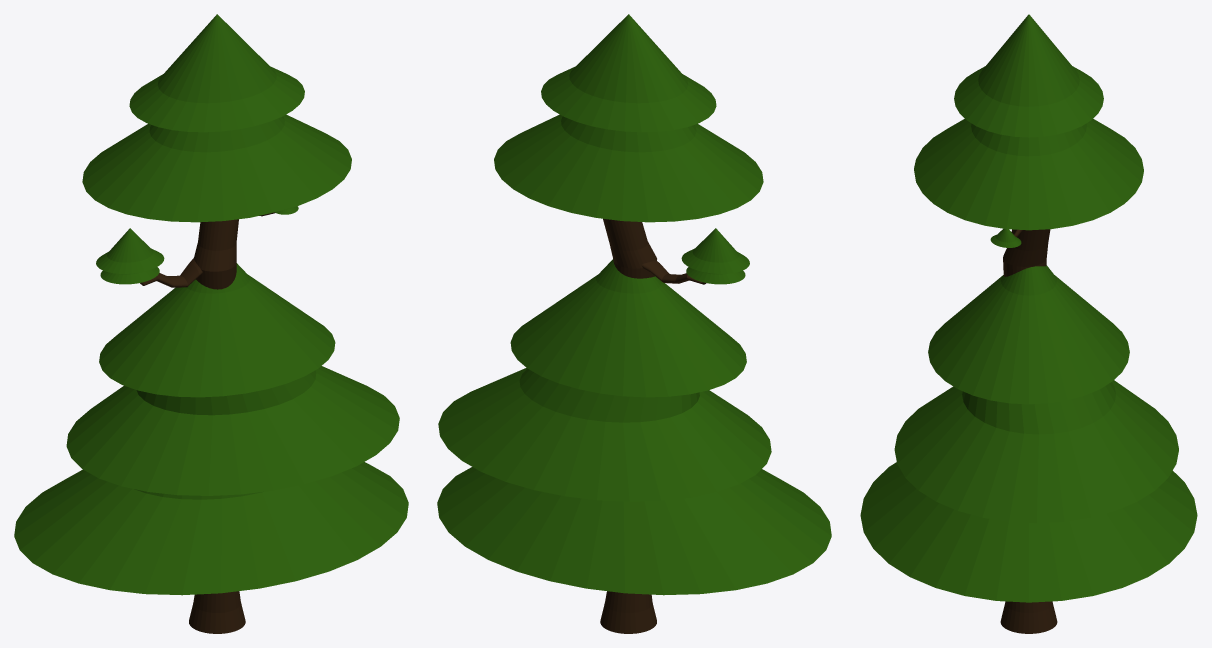
Rendered from ARVORE_2_normals.fbx.
3 renders of one model, left to right at view 1: azimuth 30°, elevation 25°; view 2: azimuth 150°, elevation 25°; view 3: azimuth 270°, elevation 25°, orthographic.
Visible parts, largest first — view 1: Cone.006, Cylinder; view 2: Cone.006, Cylinder; view 3: Cone.006, Cylinder.
Boxes of the visible parts, x1,y1,x2,y2 form: Cone.006: [14, 14, 408, 595]; Cylinder: [140, 212, 274, 633]; Cone.006: [437, 14, 831, 595]; Cylinder: [600, 218, 706, 633]; Cone.006: [860, 14, 1197, 602]; Cylinder: [1000, 229, 1057, 633].
Bounding box in the file's own units: 510 × 829 × 416.
